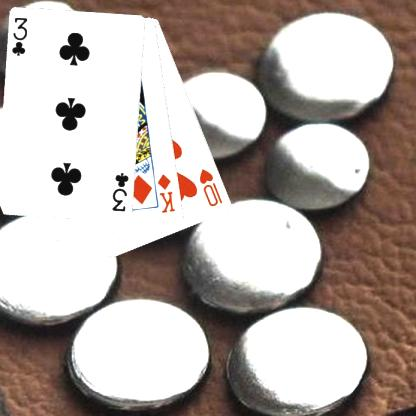10H: (197, 166, 224, 208)
3C: (109, 171, 130, 214), (9, 15, 29, 58)
KD: (154, 171, 176, 214)
